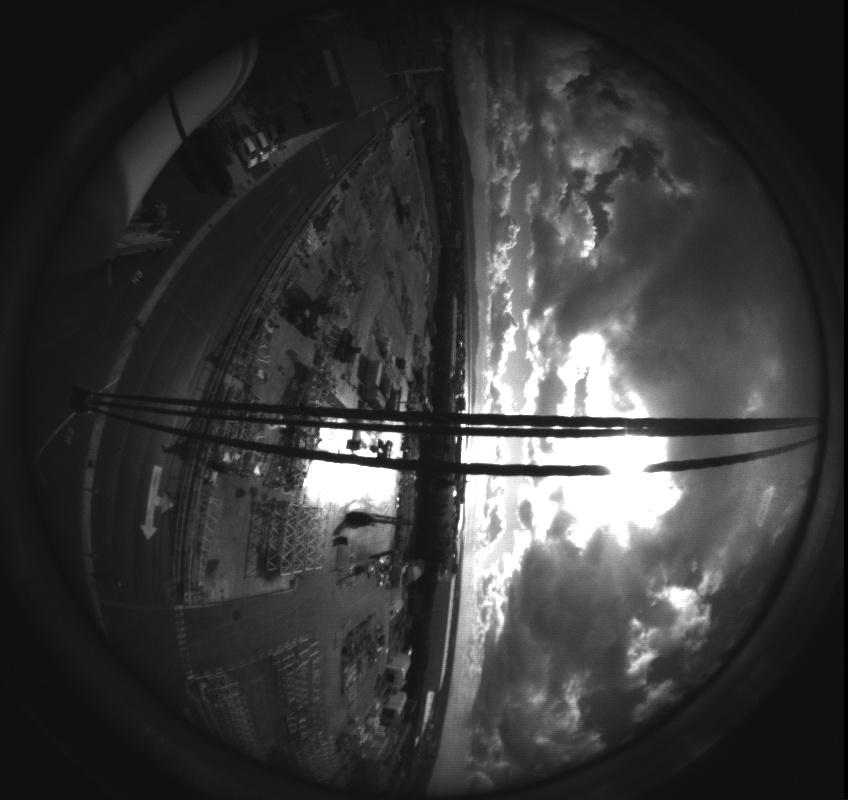rope: (19, 370, 841, 490)
